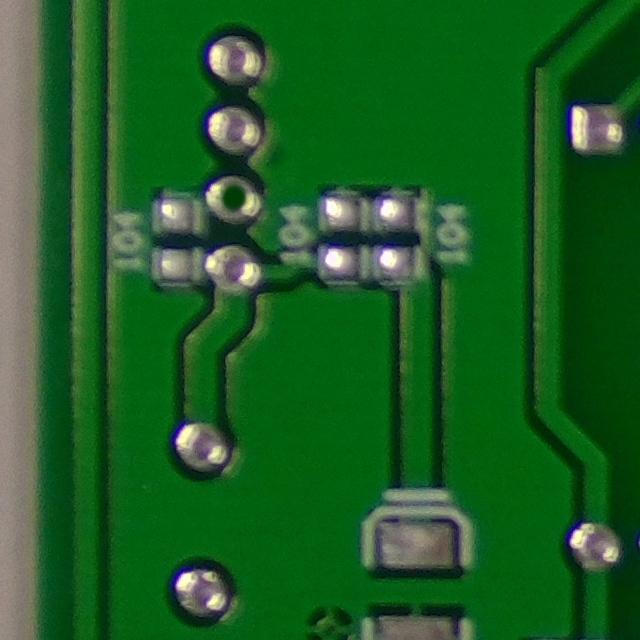missing_hole: (202, 170, 266, 228)
